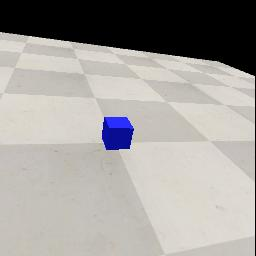box: (102, 116, 134, 150)
